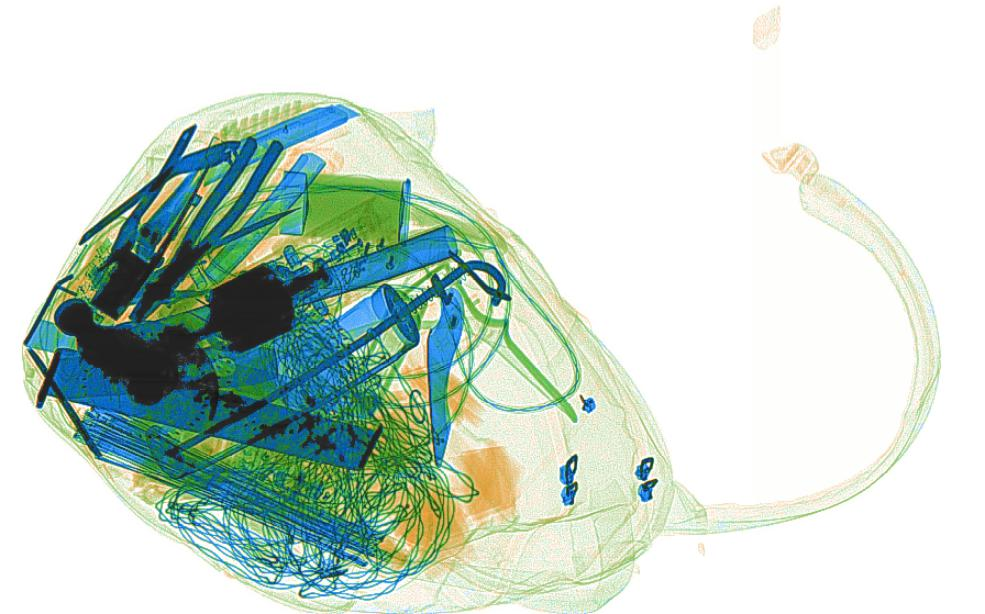knife: (203, 145, 341, 285), (198, 99, 363, 186)
